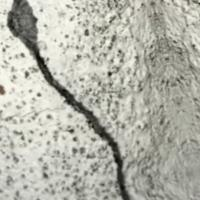crack: (1, 0, 136, 199)
